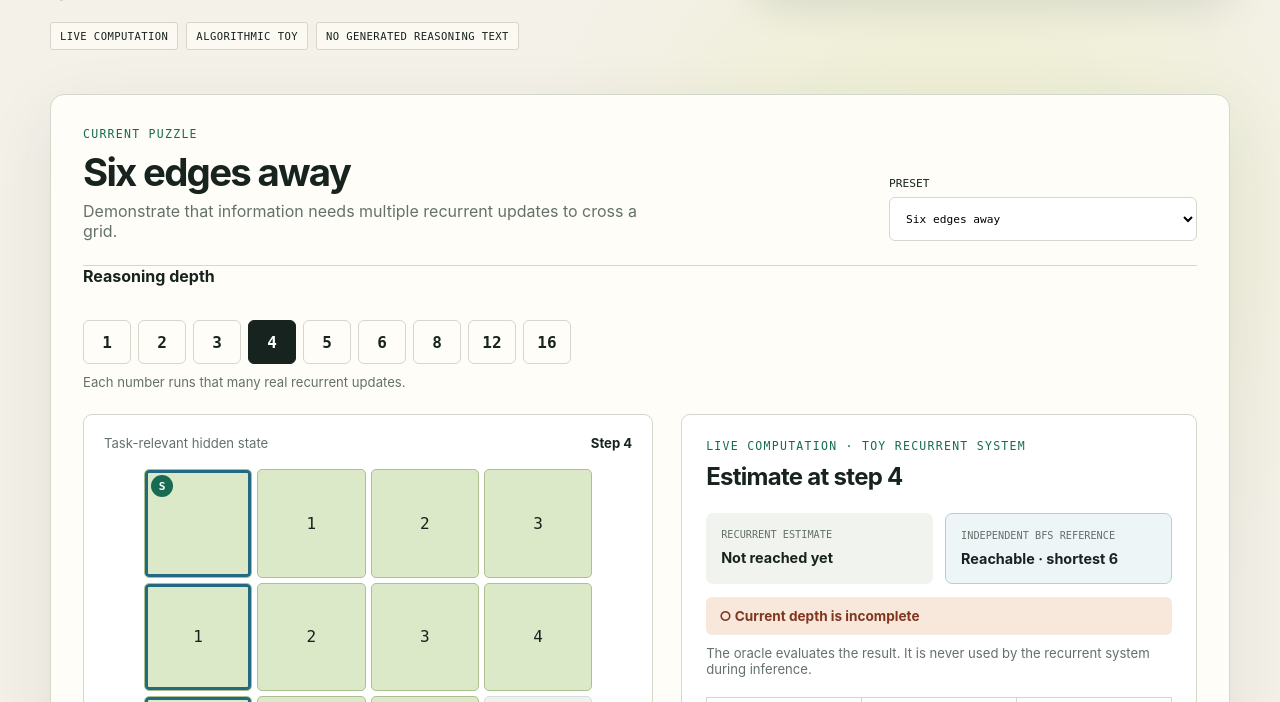
Test: interactive learning experience › reruns the real engine when depth changes
(page scrolled)
Click the button "6". click: coordinates (382, 342)
box: [358, 320, 406, 364]
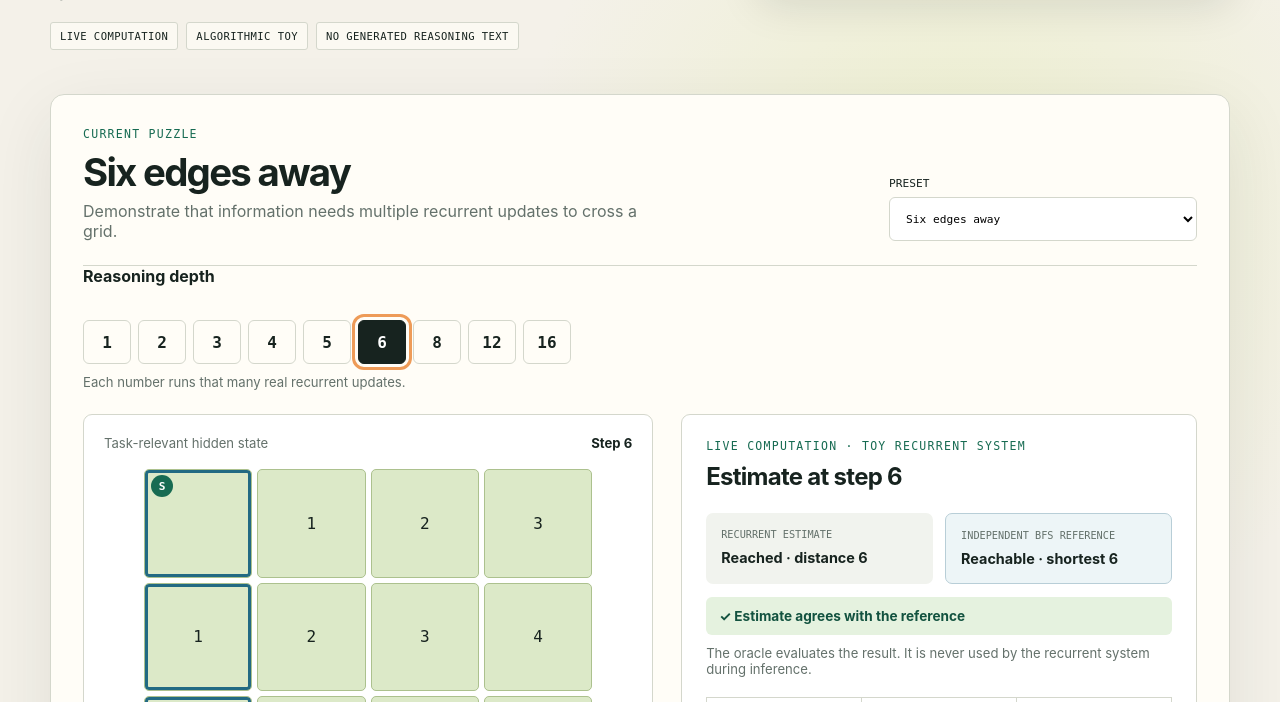
Now the text "✓ Estimate agrees with the reference" is shown, box [706, 597, 1172, 635]
